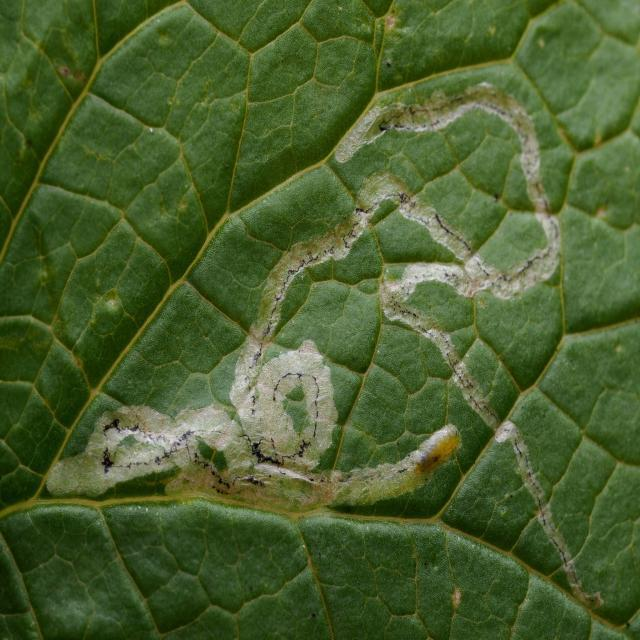Serpentine leafminer: (28, 69, 609, 610)
